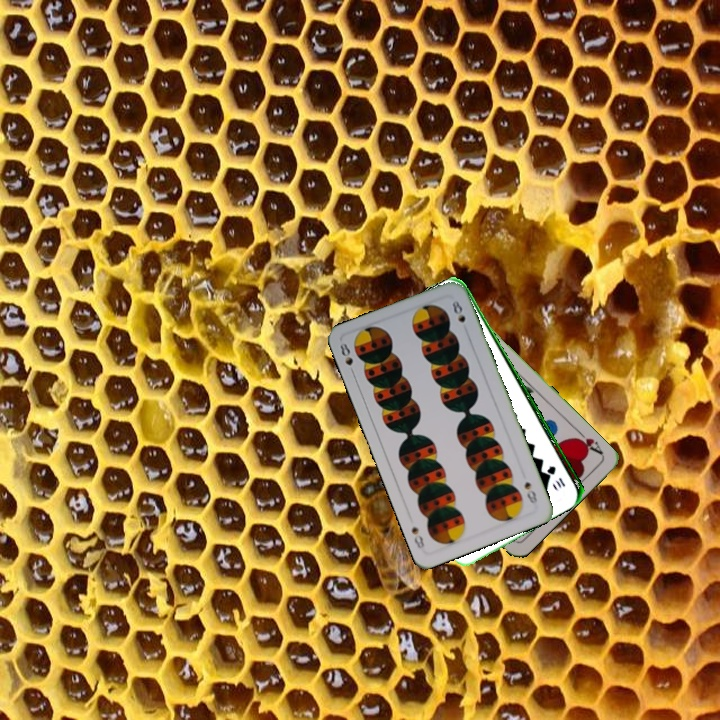G10: (545, 462, 568, 491)
HA: (570, 426, 605, 458)
S8: (336, 338, 358, 378), (520, 478, 540, 506)
